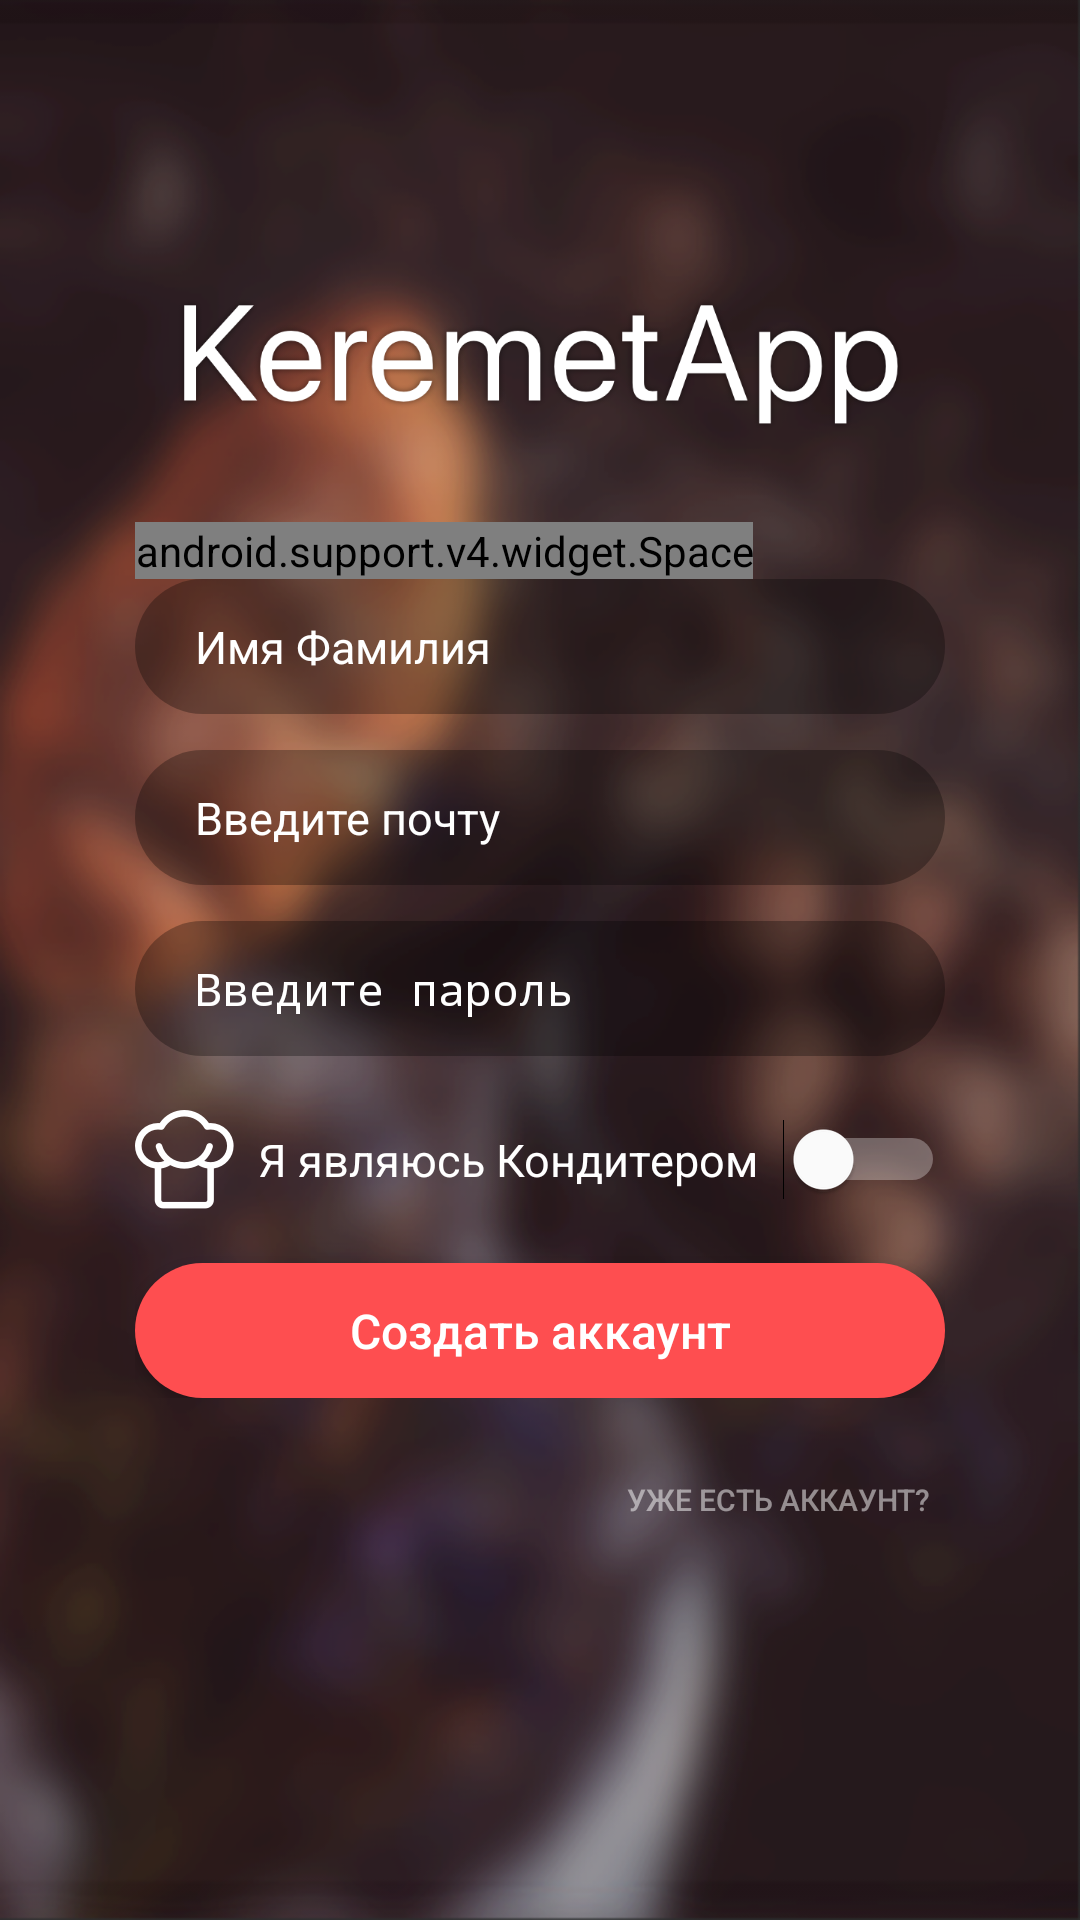

Point at icon controls on the screen. Image size 1080 × 1920, points as [x,y].
register chef: [184,1159]
